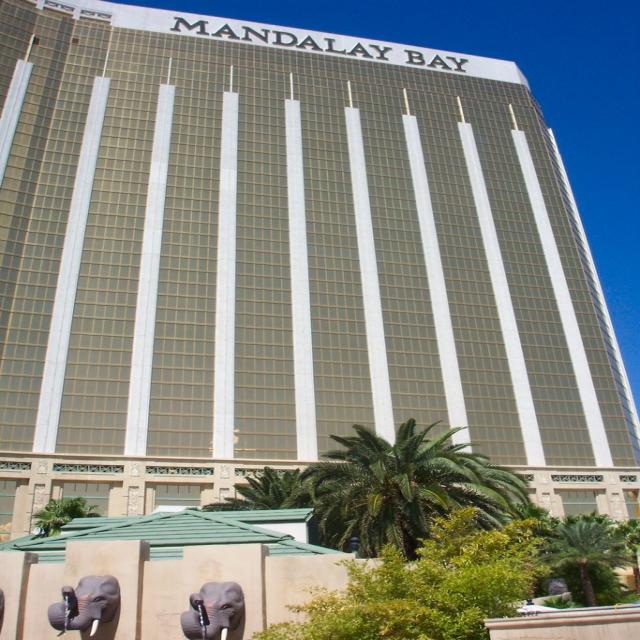elephant: (48, 574, 119, 636), (182, 578, 245, 638)
